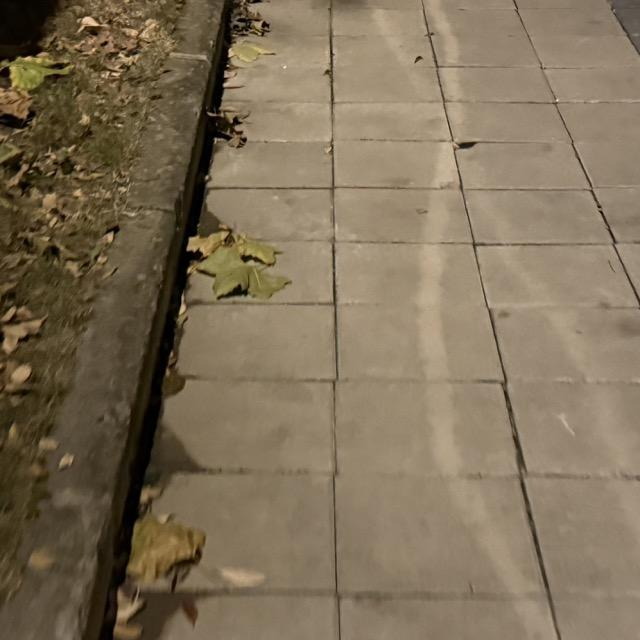curb: (0, 0, 227, 639)
